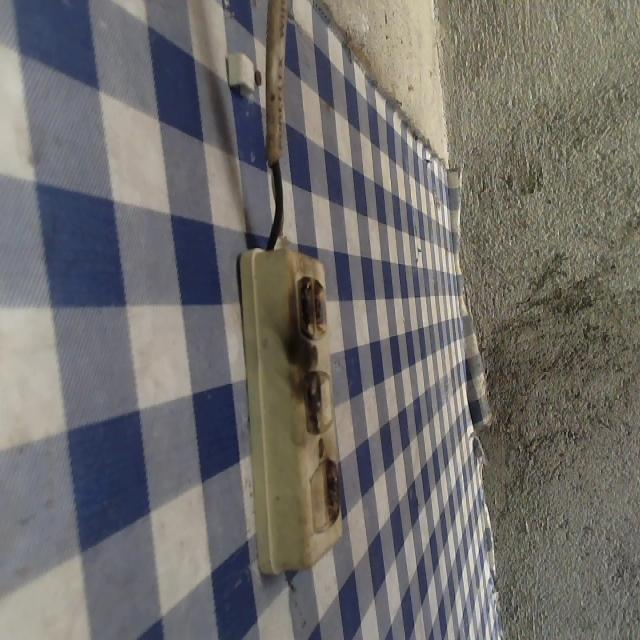-: (285, 268, 336, 347), (317, 451, 345, 526), (298, 366, 325, 438)
